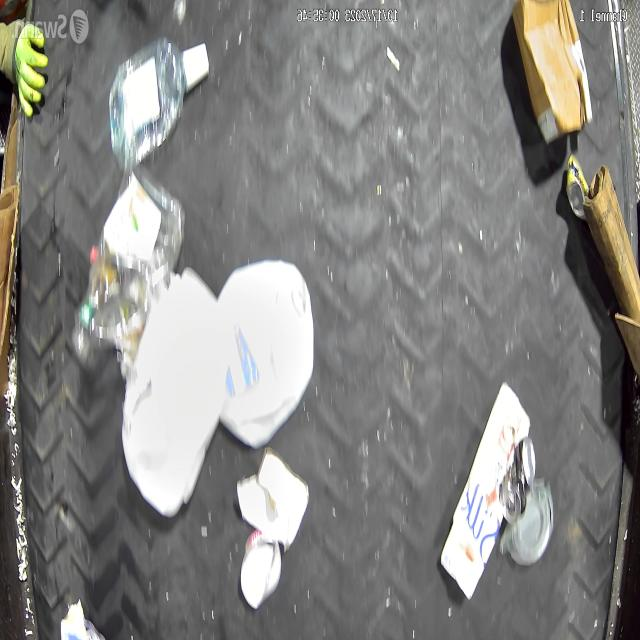can: (503, 437, 536, 522), (566, 151, 589, 222)
milk_jug: (122, 269, 228, 518), (214, 260, 313, 450)
plastic_bottle: (109, 36, 209, 167)
